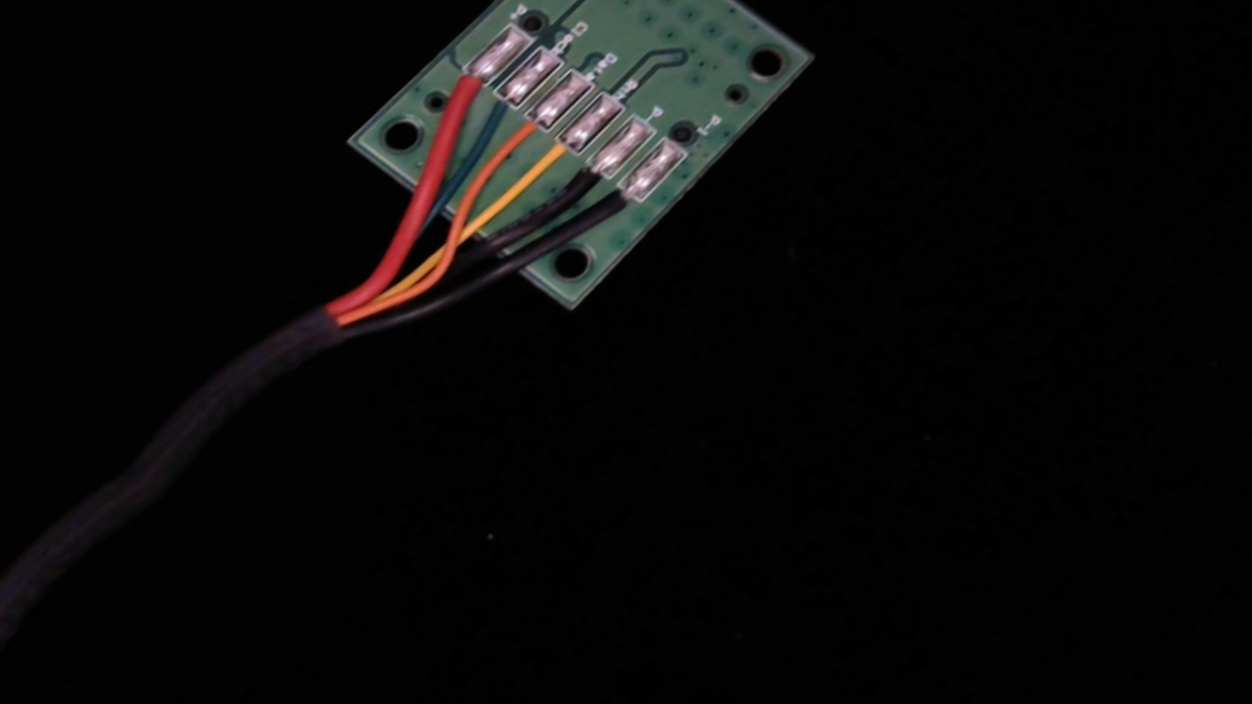Black: (543, 151, 621, 218)
Black1: (571, 174, 654, 246)
Green: (461, 80, 532, 138)
Orange: (481, 102, 562, 169)
Red: (420, 57, 502, 124)
Yellow: (513, 126, 592, 193)
